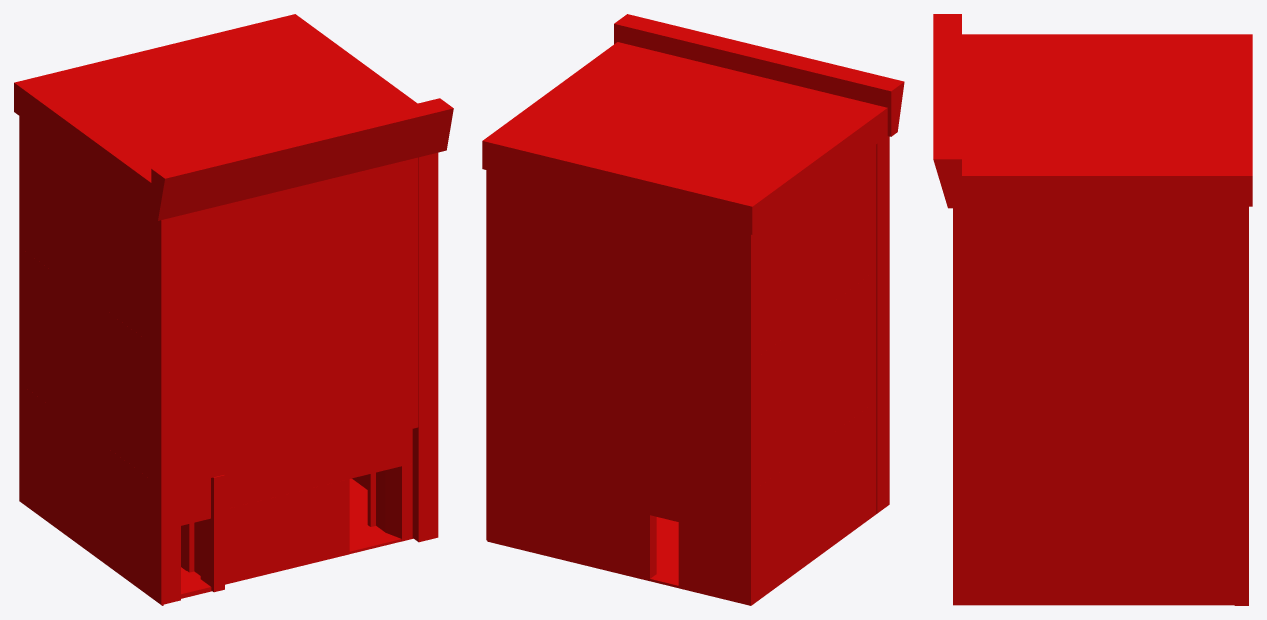
The model's file is SM_Bld_Apartment_01_Collision.fbx.
3 views of the same model, side by side, from view 1: azimuth 30°, elevation 25°; view 2: azimuth 150°, elevation 25°; view 3: azimuth 270°, elevation 25° (orthographic). The views are drawn at different scales.
Visible parts, largest first — view 1: SM_Bld_Apartment_01_Collision; view 2: SM_Bld_Apartment_01_Collision; view 3: SM_Bld_Apartment_01_Collision.
Boxes of the visible parts, left/top/right/bottom form: SM_Bld_Apartment_01_Collision: left=14, top=14, right=453, bottom=605; SM_Bld_Apartment_01_Collision: left=482, top=14, right=904, bottom=605; SM_Bld_Apartment_01_Collision: left=933, top=14, right=1252, bottom=605.
Size of the model in its own units: 1031 by 1491 by 957.
